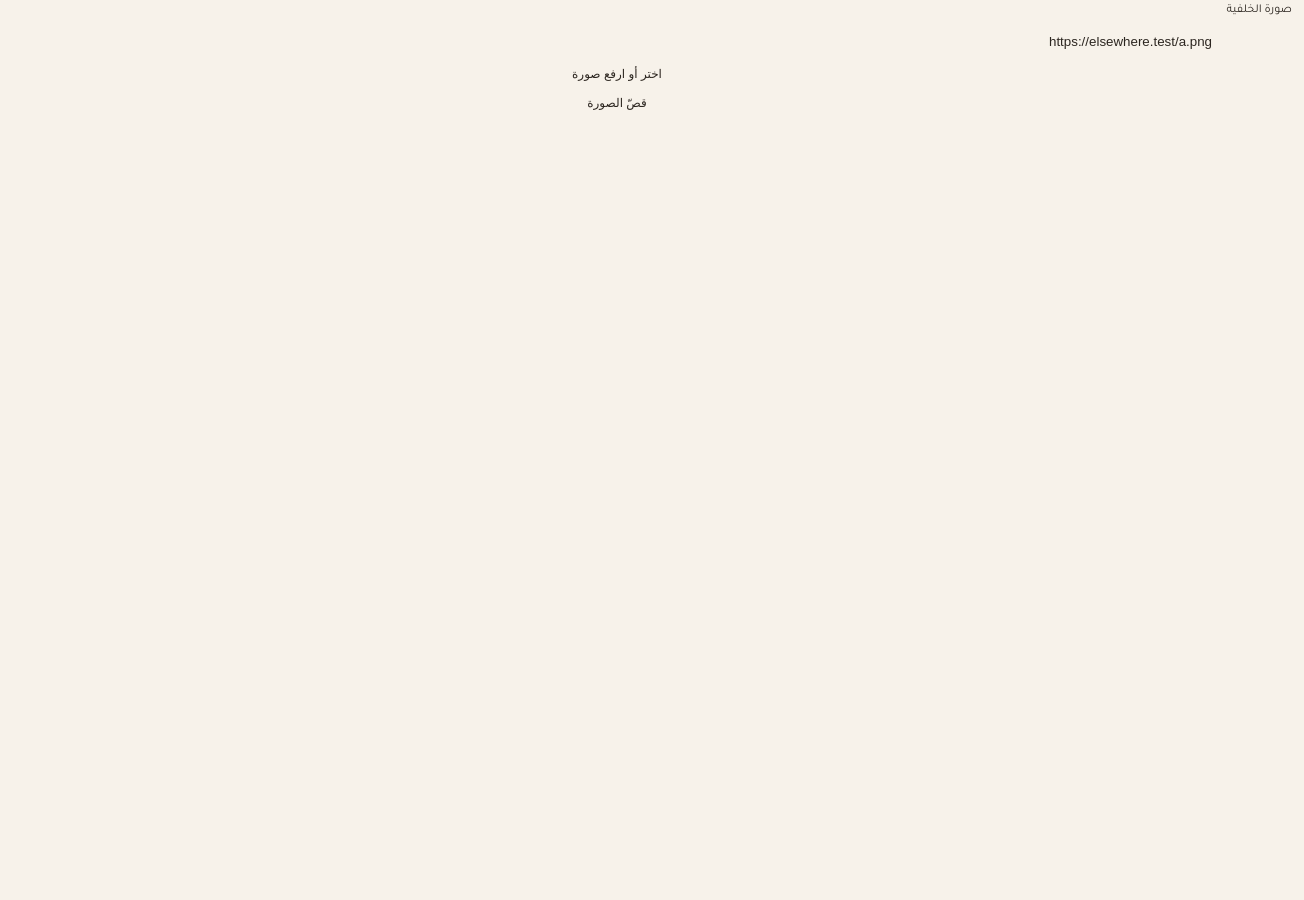
Test: image field › crop needs an image from the library first
Click the button "قصّ الصورة" at [617, 103], box x1=12 y1=91 x2=1222 y2=115
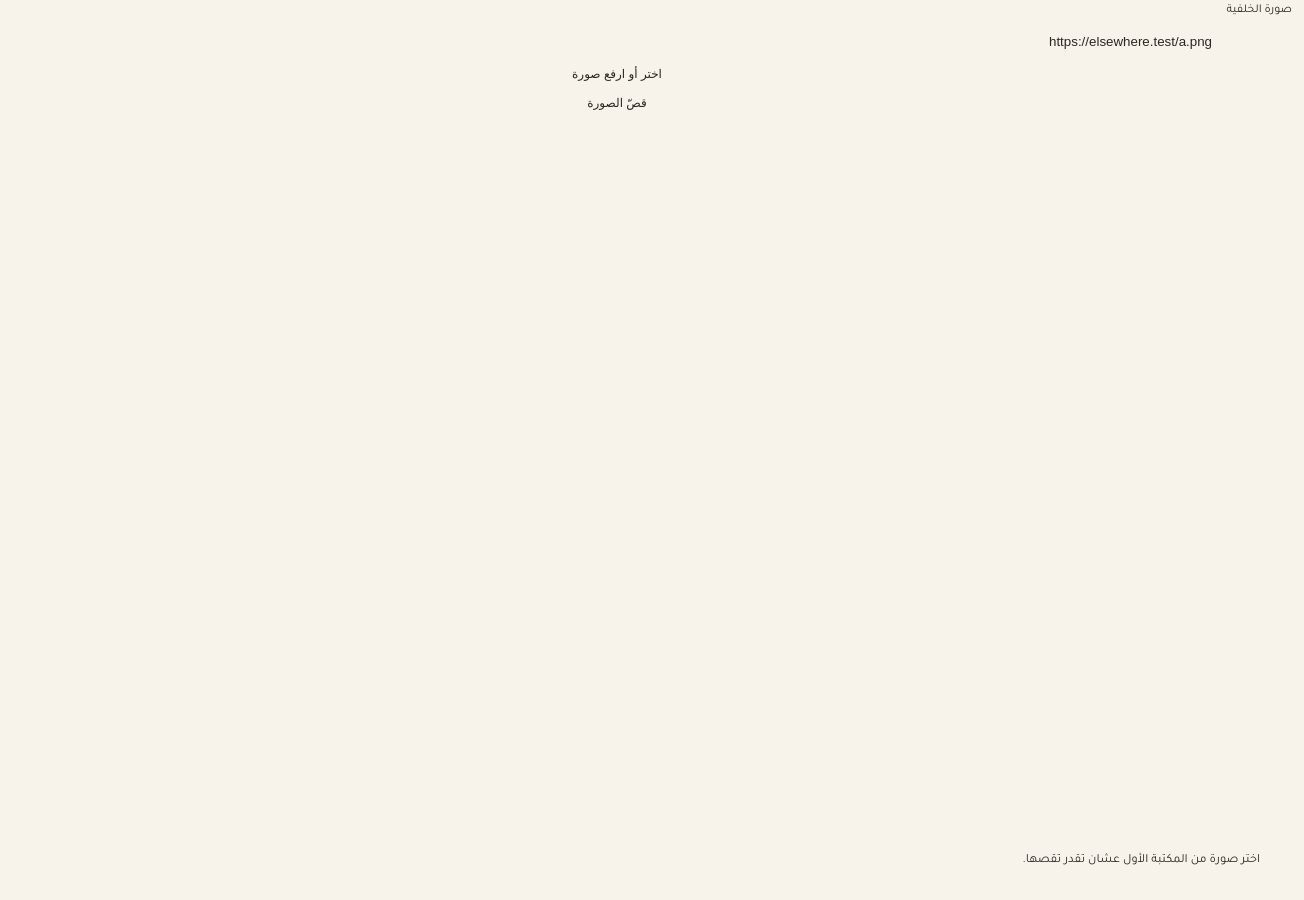
Expected: the message shows "اختر صورة من المكتبة الأول", x1=1022 y1=854 x2=1260 y2=866
